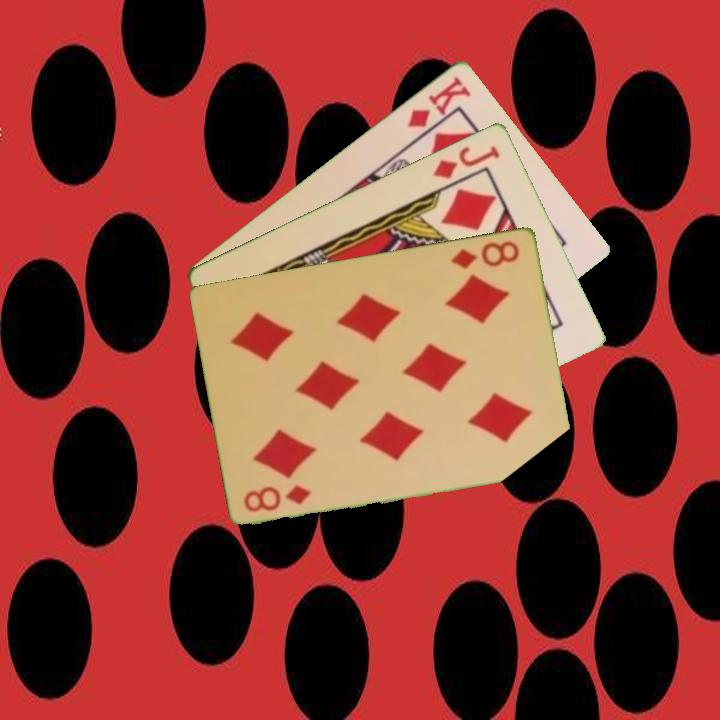8d: (447, 236, 523, 272), (240, 480, 315, 515)
Jd: (429, 141, 503, 182)
Kd: (403, 72, 474, 130)
